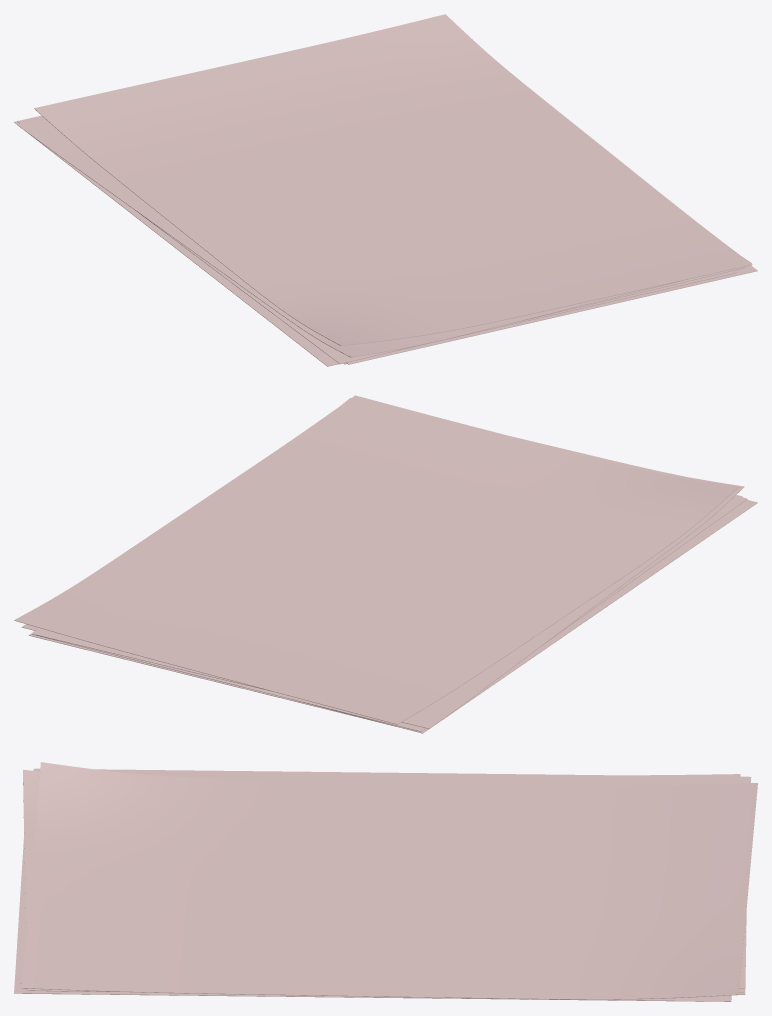
File: moms_letter.fbx
The picture shows the model from 3 angles, top to bottom: view 1: azimuth 30°, elevation 25°; view 2: azimuth 150°, elevation 25°; view 3: azimuth 270°, elevation 25°; orthographic projection. The views are drawn at different scales.
Parts seen in each view (by area): view 1: Plane.007, Plane.008, Plane.003, Plane.006, Plane.009; view 2: Plane.007, Plane.008, Plane.003, Plane.006, Plane; view 3: Plane.007, Plane.008, Plane.009, Plane.003, Plane.006.
Part boxes in pixels (x1,y1,x2,y2): Plane.007: (34,14,752,345); Plane.008: (17,117,751,357); Plane.003: (14,115,736,366); Plane.006: (17,115,745,364); Plane.009: (346,265,757,364); Plane.007: (14,395,738,724); Plane.008: (35,398,744,728); Plane.003: (299,499,757,733); Plane.006: (32,495,747,731); Plane: (29,631,392,725); Plane.007: (21,762,757,999); Plane.008: (23,769,745,991); Plane.009: (14,834,731,1001); Plane.003: (20,768,751,983); Plane.006: (26,775,749,992).
Size of the model in its own units: 22.99 by 0.7694 by 30.79.
